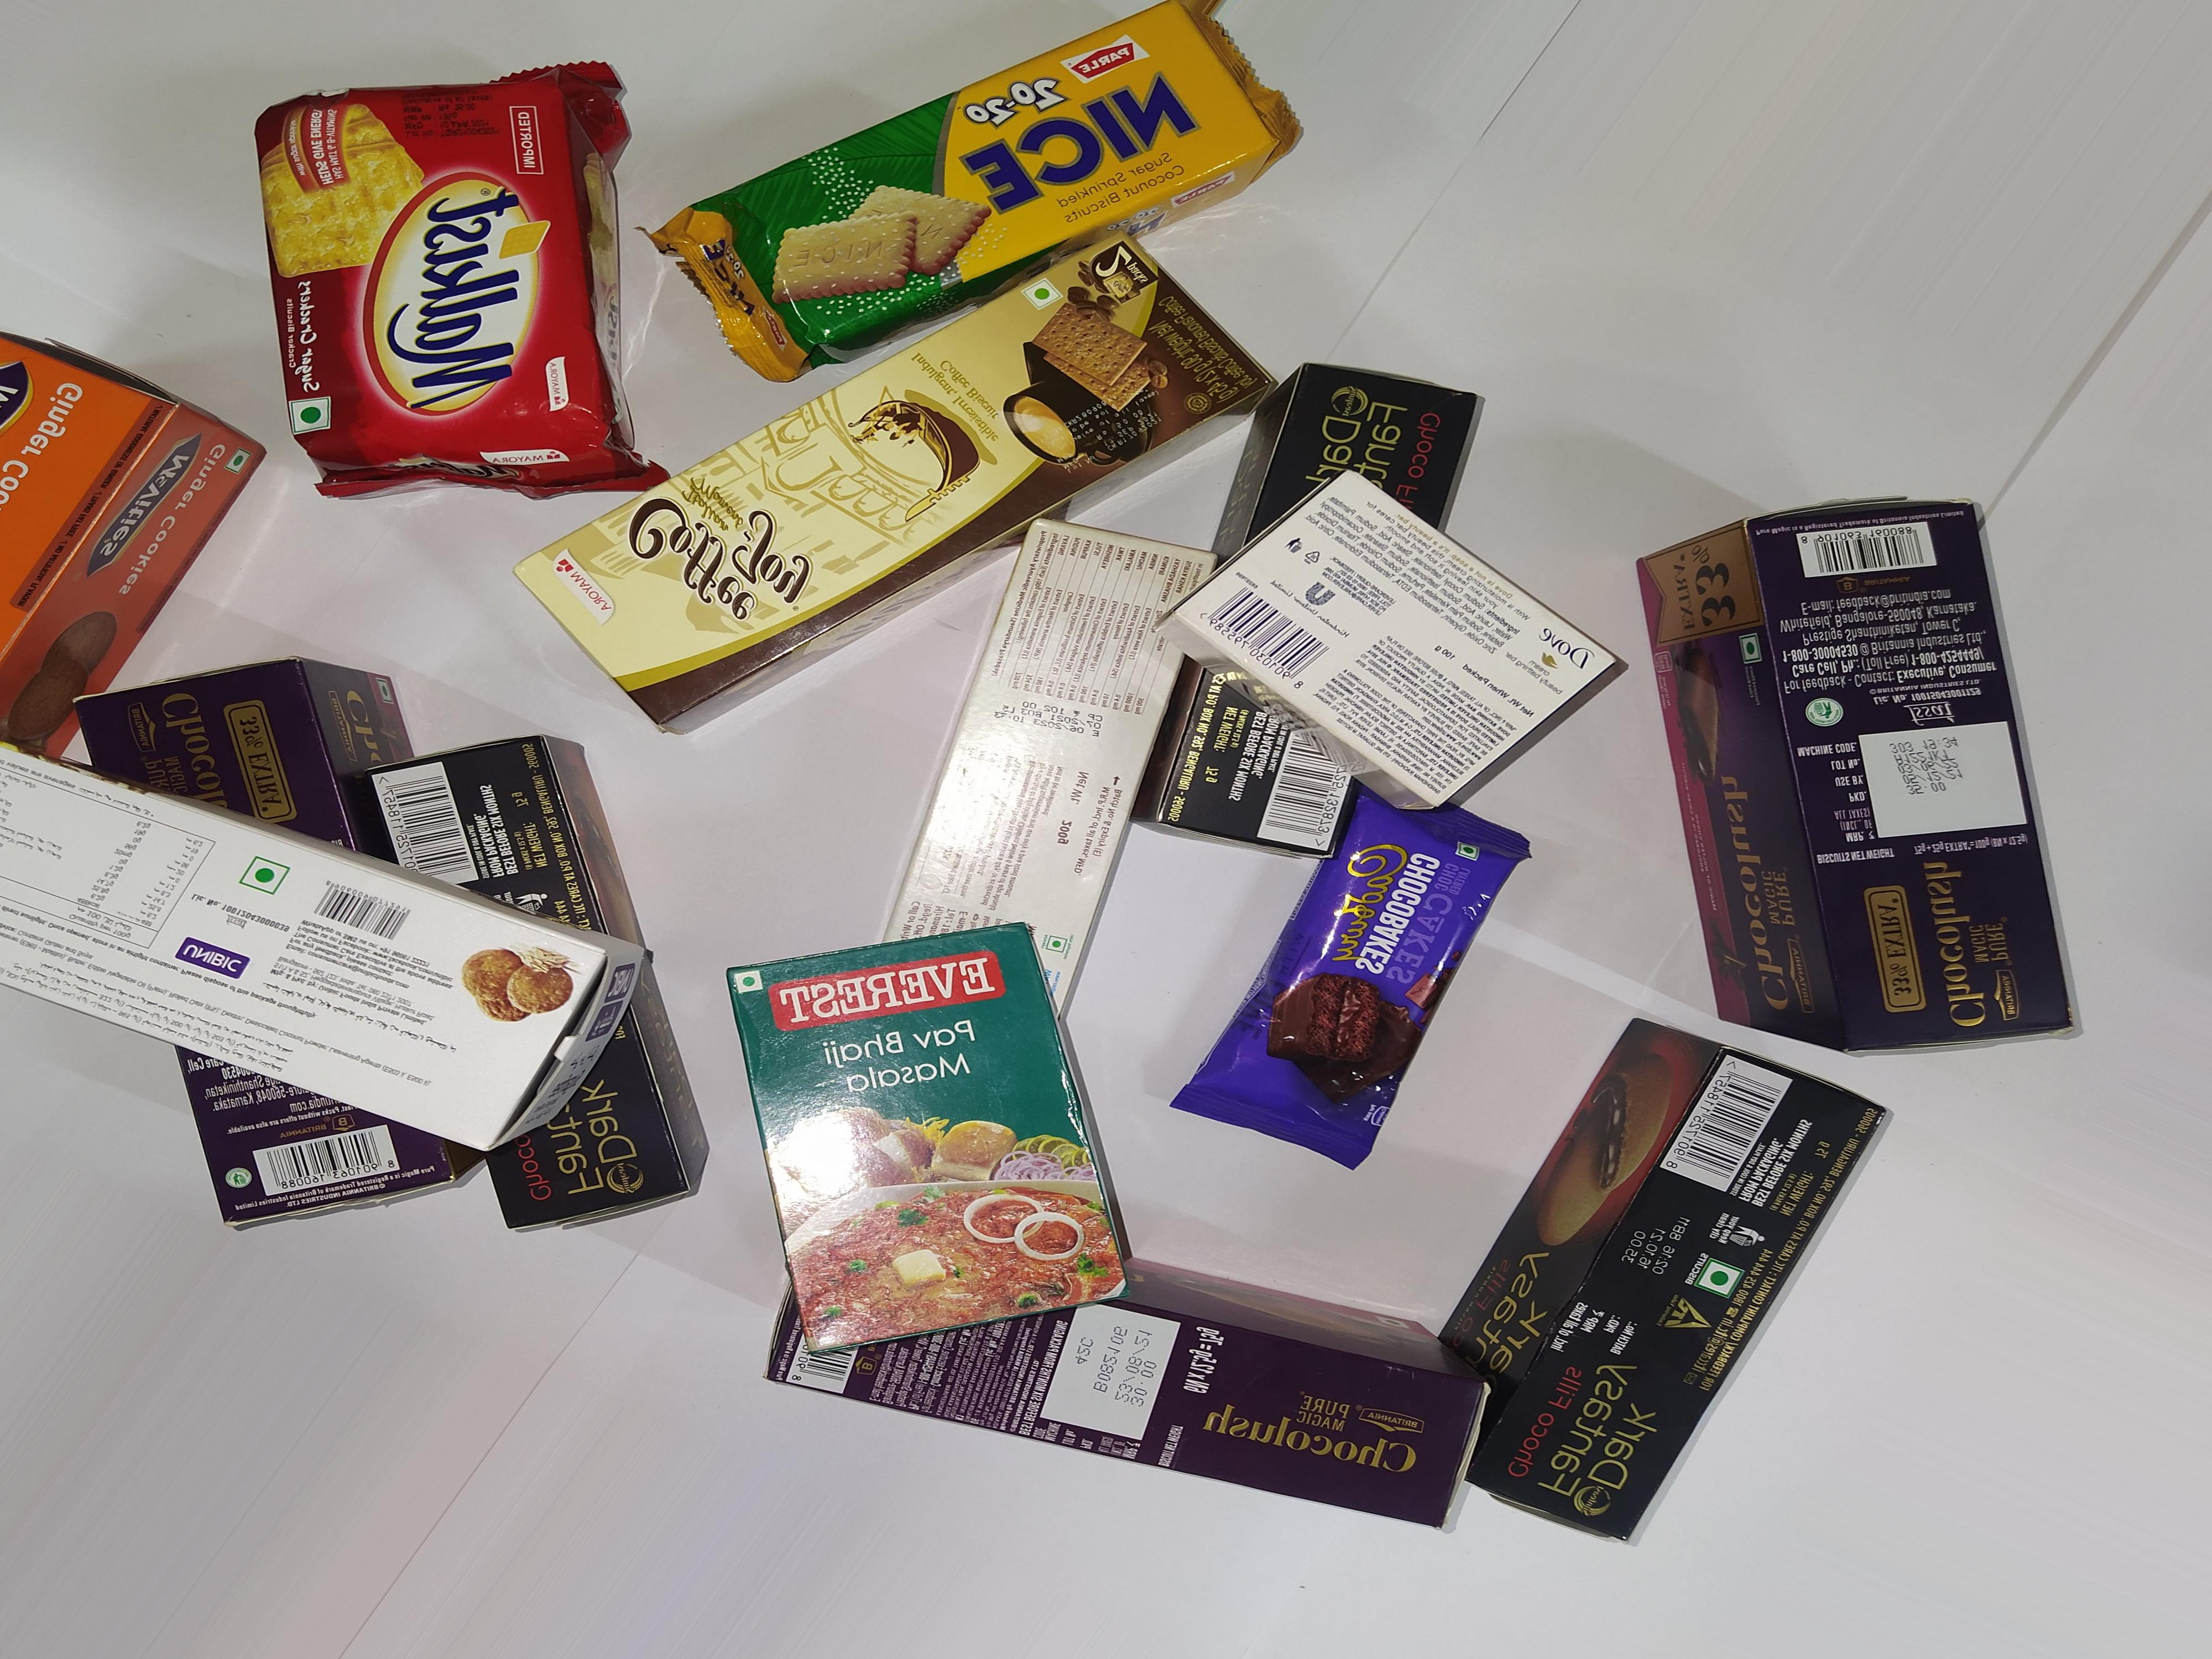Bar_code: (1660, 1035, 1801, 1199), (366, 748, 486, 904), (1202, 577, 1332, 704), (228, 1122, 423, 1194), (1259, 725, 1359, 864), (1775, 512, 1946, 587), (307, 885, 427, 948), (777, 1321, 859, 1399)
Item: (1606, 443, 2125, 1112), (0, 732, 662, 1157), (733, 1192, 1507, 1547), (529, 338, 1252, 718), (75, 650, 493, 1241), (1493, 1014, 1888, 1591), (226, 40, 678, 530), (714, 920, 1197, 1375), (366, 728, 732, 1276), (641, 10, 1298, 303), (1151, 462, 1649, 819), (0, 319, 270, 721), (1226, 770, 1440, 1180)
